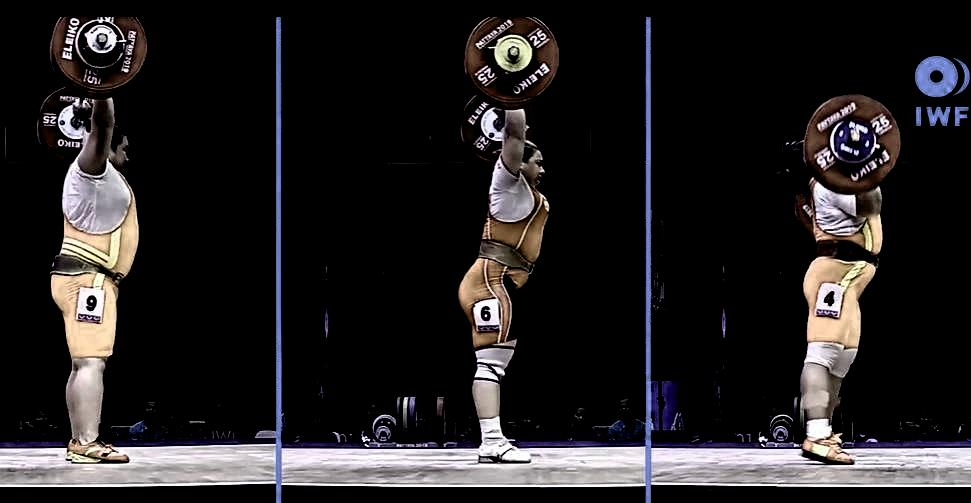Barbell: (848, 127, 866, 145), (95, 30, 113, 48), (506, 46, 524, 60)
